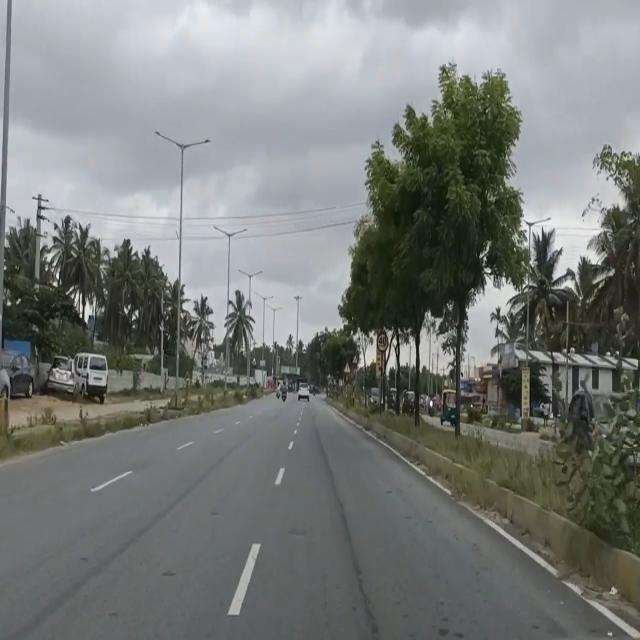bien_cam: (376, 330, 388, 353), (343, 361, 351, 374), (352, 354, 358, 366)
